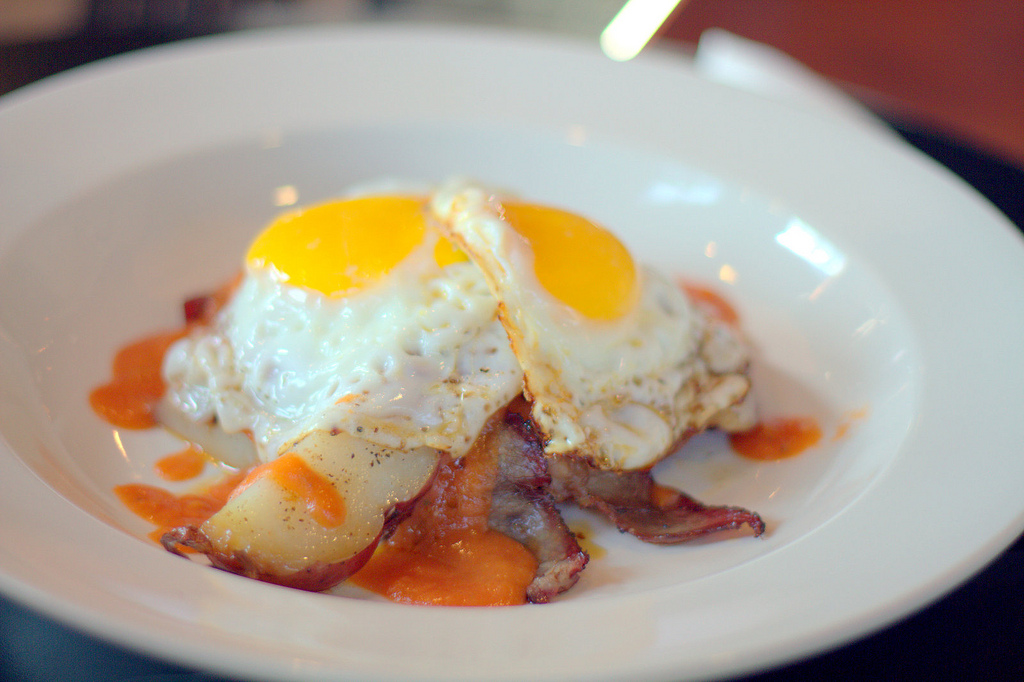boiled potatoes: (176, 422, 446, 577)
fried egg: (467, 179, 714, 457), (192, 197, 478, 437)
